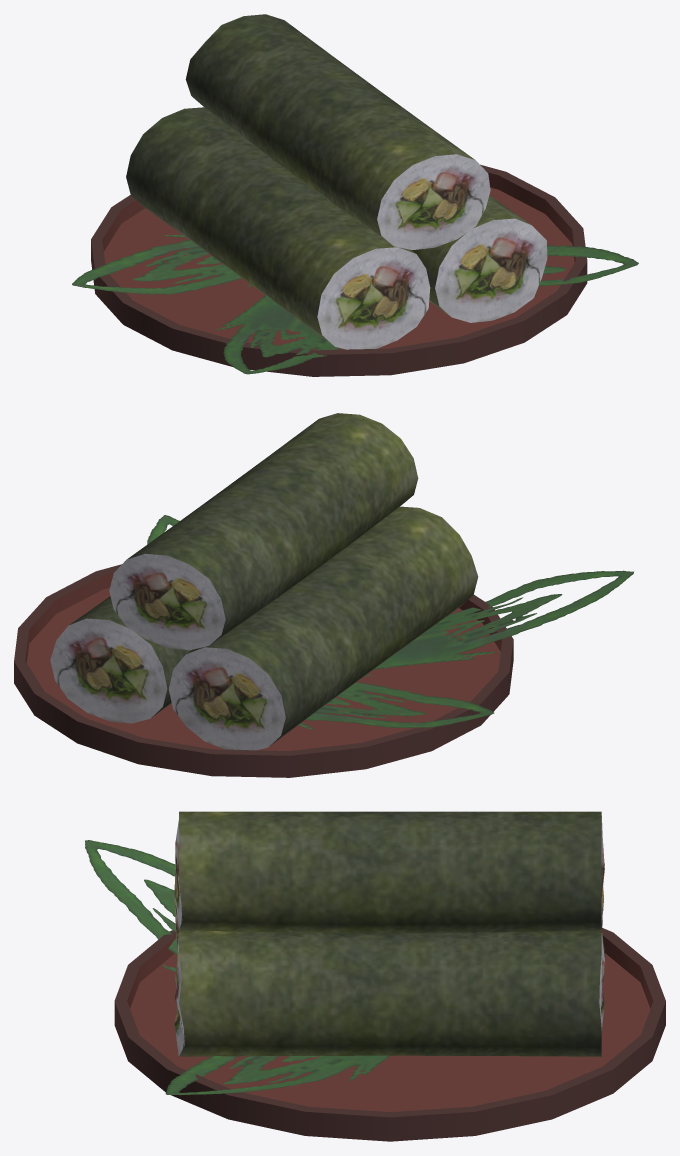
The model's file is SushiRoll01.fbx.
The picture shows the model from 3 angles, top to bottom: view 1: azimuth 30°, elevation 25°; view 2: azimuth 150°, elevation 25°; view 3: azimuth 270°, elevation 25°; orthographic projection. The views are drawn at different scales.
Parts seen in each view (by area): view 1: SushiRoll01; view 2: SushiRoll01; view 3: SushiRoll01.
Part boxes in pixels (left/top/right/bottom): SushiRoll01: left=72, top=14, right=638, bottom=376; SushiRoll01: left=14, top=413, right=633, bottom=777; SushiRoll01: left=85, top=811, right=665, bottom=1141.
Size of the model in its own units: 37.83 by 12.35 by 35.47.
Materials: 1 (1 with a texture image).
